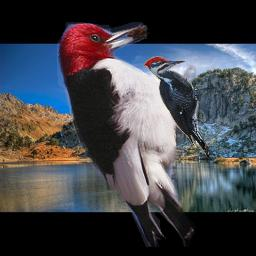Woodpecker: (57, 22, 196, 247), (143, 56, 209, 158)
